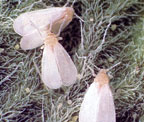whitefly: (31, 14, 79, 89), (12, 1, 84, 50), (78, 60, 121, 121)
